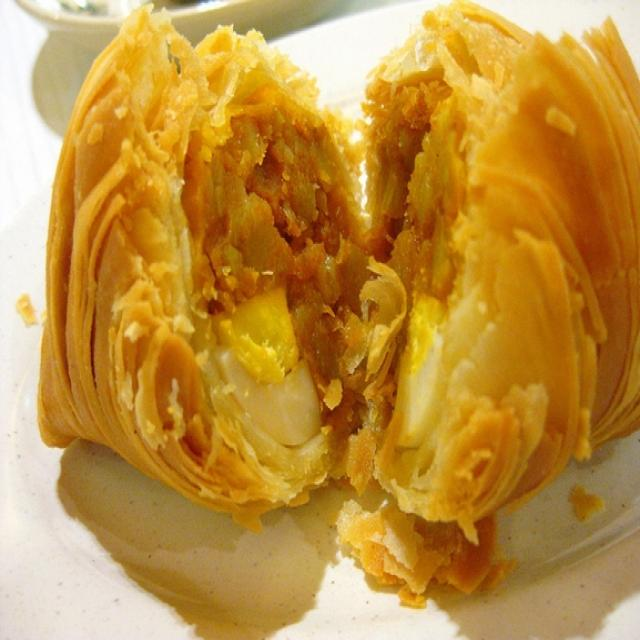炸货点心: (28, 13, 628, 572)
